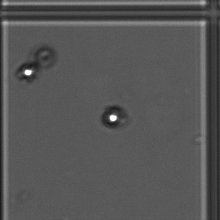Dead Cell: (36, 44, 59, 72)
Living Cell: (100, 103, 127, 132), (17, 60, 38, 84)
